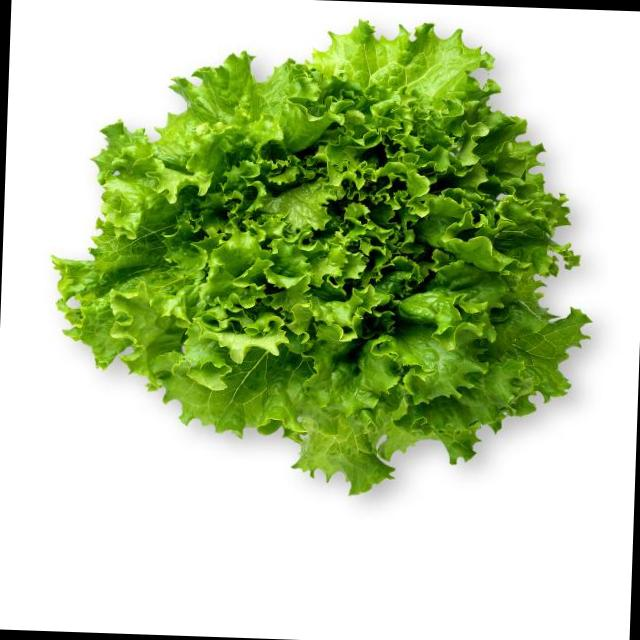Lettuce-Ready-to-Harvest: (56, 23, 586, 491)
